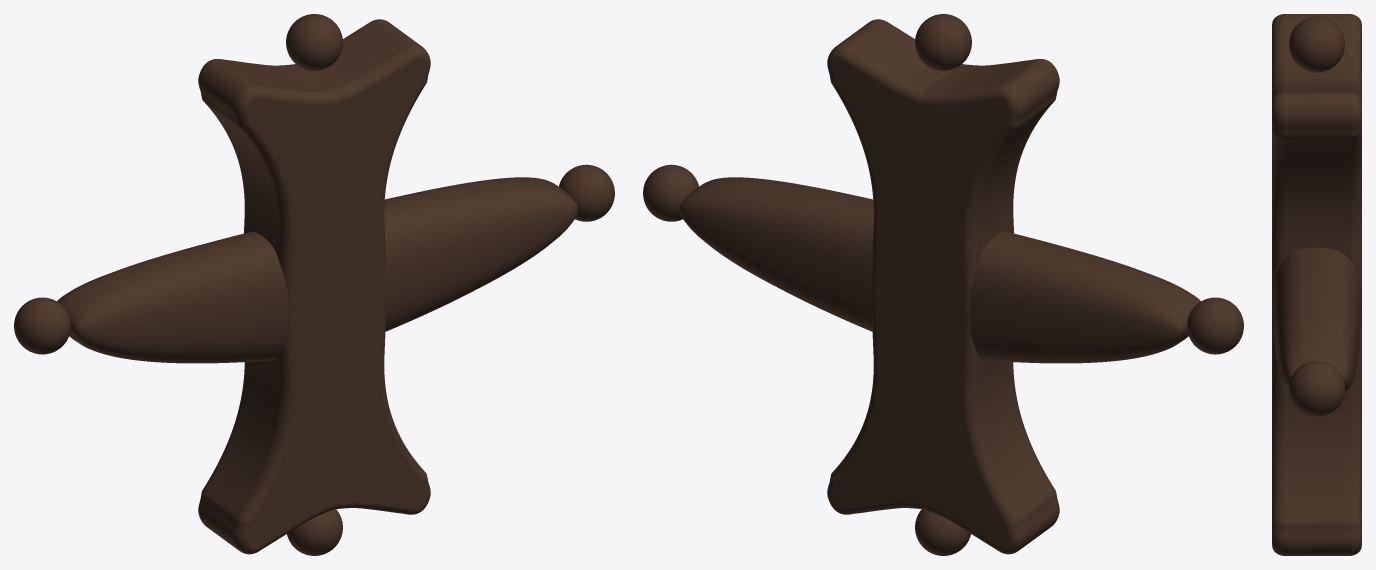
The model's file is palermo-bleu-cross-3d.glb.
3 views of the same model, side by side, from view 1: azimuth 30°, elevation 25°; view 2: azimuth 150°, elevation 25°; view 3: azimuth 270°, elevation 25° (orthographic).
Parts seen in each view (by area): view 1: cross_body, arm_horizontal, dot_left, dot_top, dot_right, dot_bottom; view 2: cross_body, arm_horizontal, dot_left, dot_top, dot_right, dot_bottom; view 3: cross_body, arm_horizontal, dot_top, dot_right.
Part boxes in pixels (x1=…): cross_body: x1=198, y1=19, x2=430, y2=554; arm_horizontal: x1=57, y1=177, x2=578, y2=363; dot_left: x1=14, y1=297, x2=70, y2=354; dot_top: x1=286, y1=14, x2=342, y2=70; dot_right: x1=559, y1=164, x2=614, y2=221; dot_bottom: x1=287, y1=509, x2=342, y2=555; cross_body: x1=827, y1=19, x2=1059, y2=554; arm_horizontal: x1=679, y1=177, x2=1200, y2=363; dot_left: x1=1187, y1=297, x2=1243, y2=354; dot_top: x1=915, y1=14, x2=971, y2=70; dot_right: x1=643, y1=164, x2=698, y2=221; dot_bottom: x1=915, y1=509, x2=970, y2=555; cross_body: x1=1272, y1=14, x2=1361, y2=555; arm_horizontal: x1=1273, y1=247, x2=1360, y2=392; dot_top: x1=1289, y1=16, x2=1344, y2=72; dot_right: x1=1289, y1=360, x2=1344, y2=416.
Bounding box in the file's own units: 1.58 × 1.36 × 0.21.
